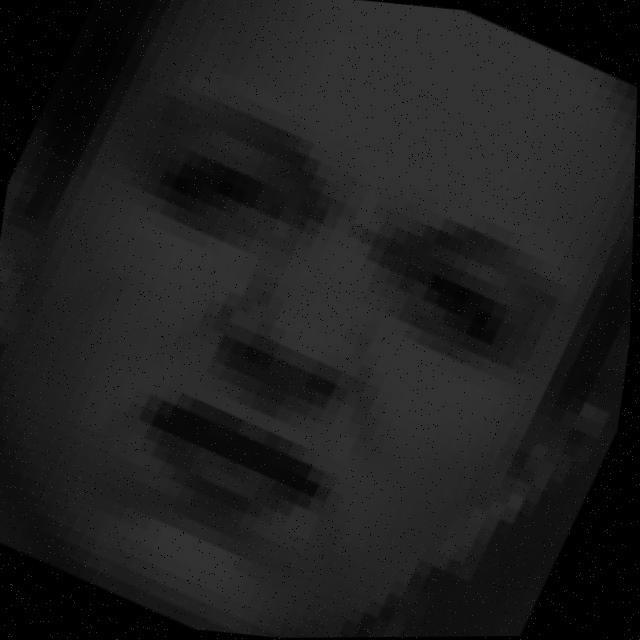Disgust: (55, 82, 603, 625)
